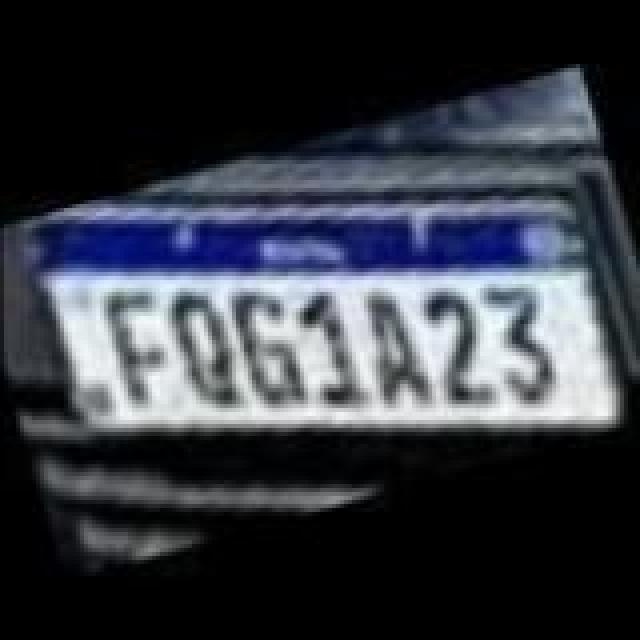1: (286, 276, 374, 416)
2: (406, 272, 502, 416)
3: (468, 268, 568, 412)
A: (348, 274, 440, 414)
F: (96, 278, 188, 418)
G: (214, 270, 318, 422)
Q: (152, 276, 252, 420)
